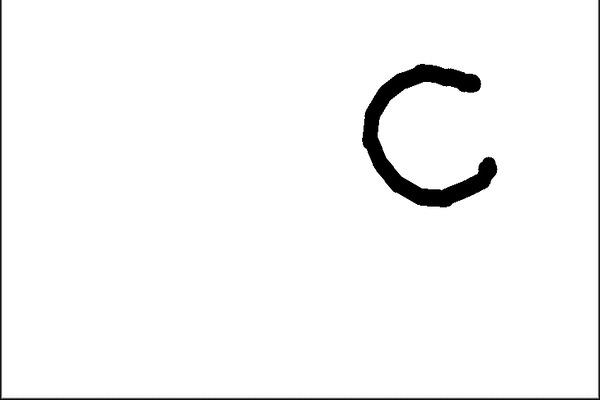C: (356, 59, 500, 210)
